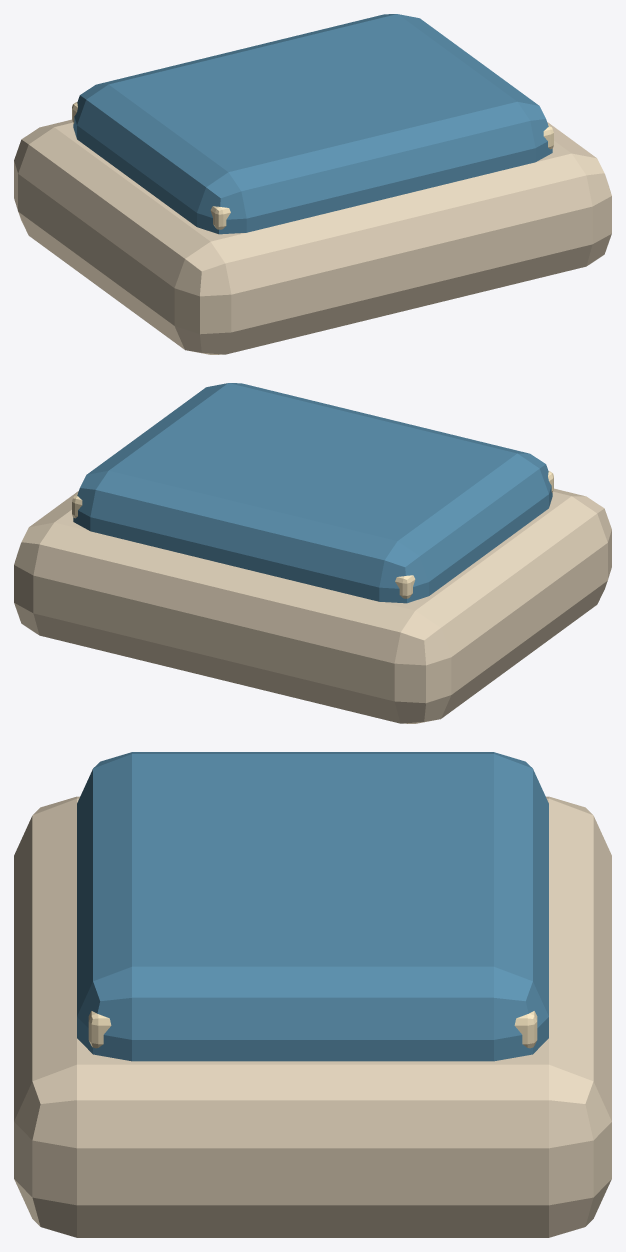
File: pet-bed-cozy.glb
3 renders of one model, top to bottom at view 1: azimuth 30°, elevation 25°; view 2: azimuth 150°, elevation 25°; view 3: azimuth 270°, elevation 25°, orthographic. The views are drawn at different scales.
Parts seen in each view (by area): view 1: PetBed_Base, PetBed_Cushion; view 2: PetBed_Base, PetBed_Cushion; view 3: PetBed_Cushion, PetBed_Base.
Boxes of the visible parts, bbox=[...] form: PetBed_Base: bbox=[14, 119, 611, 354]; PetBed_Cushion: bbox=[73, 14, 552, 234]; PetBed_Base: bbox=[14, 488, 611, 723]; PetBed_Cushion: bbox=[73, 383, 552, 603]; PetBed_Cushion: bbox=[77, 752, 548, 1061]; PetBed_Base: bbox=[14, 796, 611, 1237].
Bounding box in the file's own units: 0.96 × 0.34 × 0.76.
